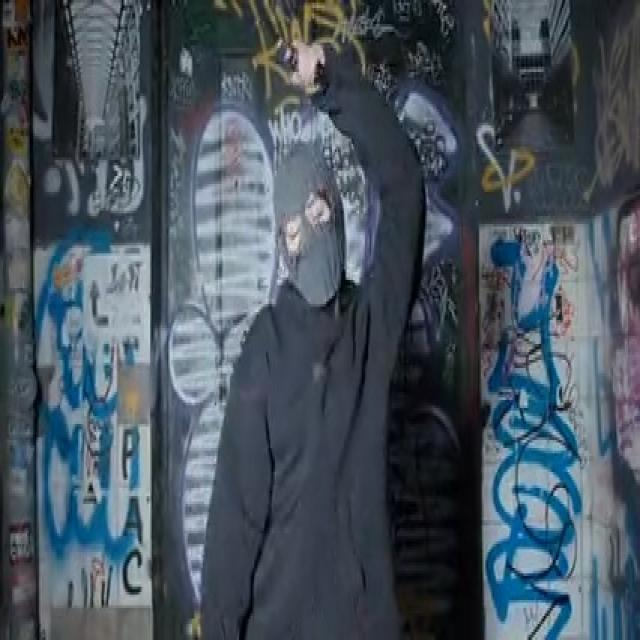Gun_Holder: (250, 19, 348, 115)
Person: (197, 127, 407, 640)
